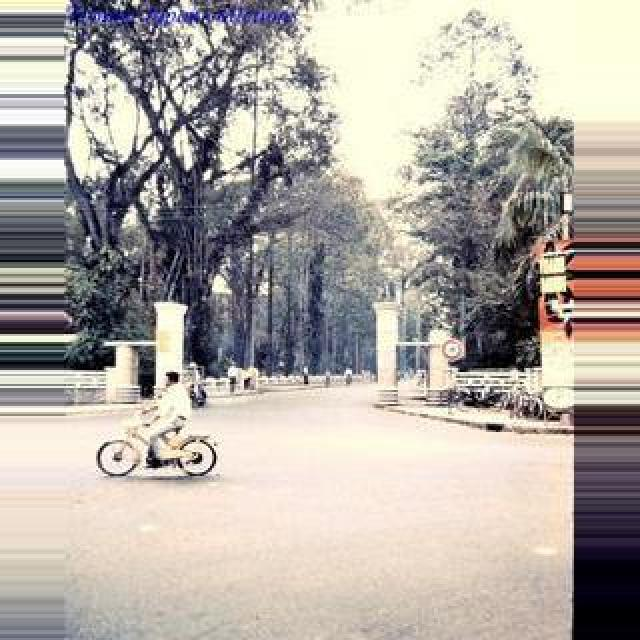MC-Bike: (148, 372, 192, 468), (228, 366, 240, 396)
Person: (96, 408, 222, 482)
